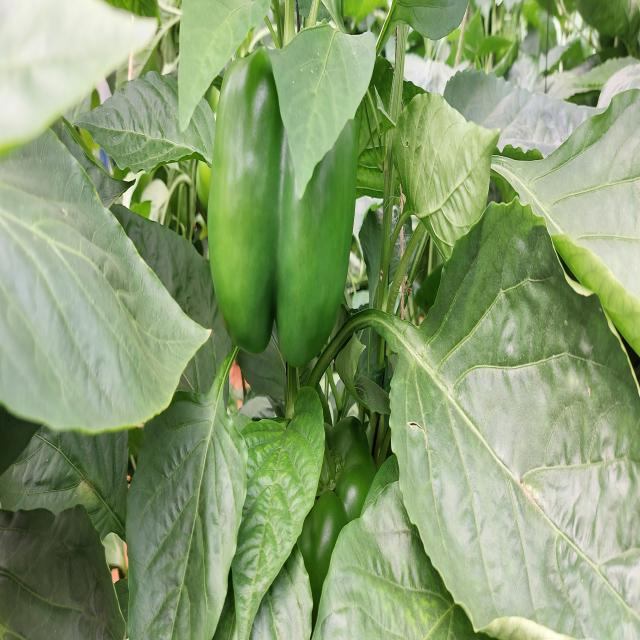Green--Not-ready-to-harvest: (222, 61, 354, 372), (281, 439, 384, 605)
